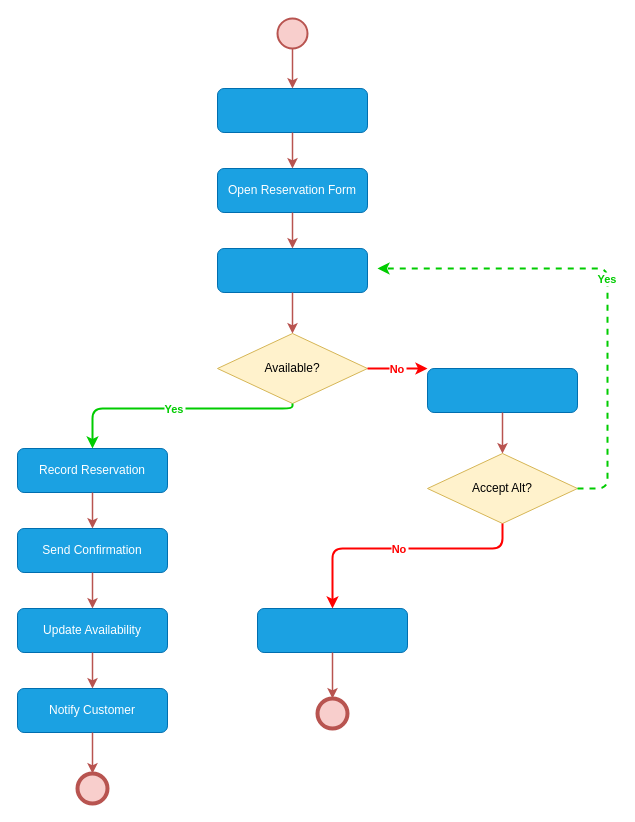
This 635x822 diagram has some shape labels left out. Each missing label, with the centre of its shape:
"Cancel / Close" goes at (x=332, y=630).
"Enter Booking Details" goes at (x=292, y=270).
"Receive Request" goes at (x=292, y=110).
"Suggest Alternative" goes at (x=502, y=390).
